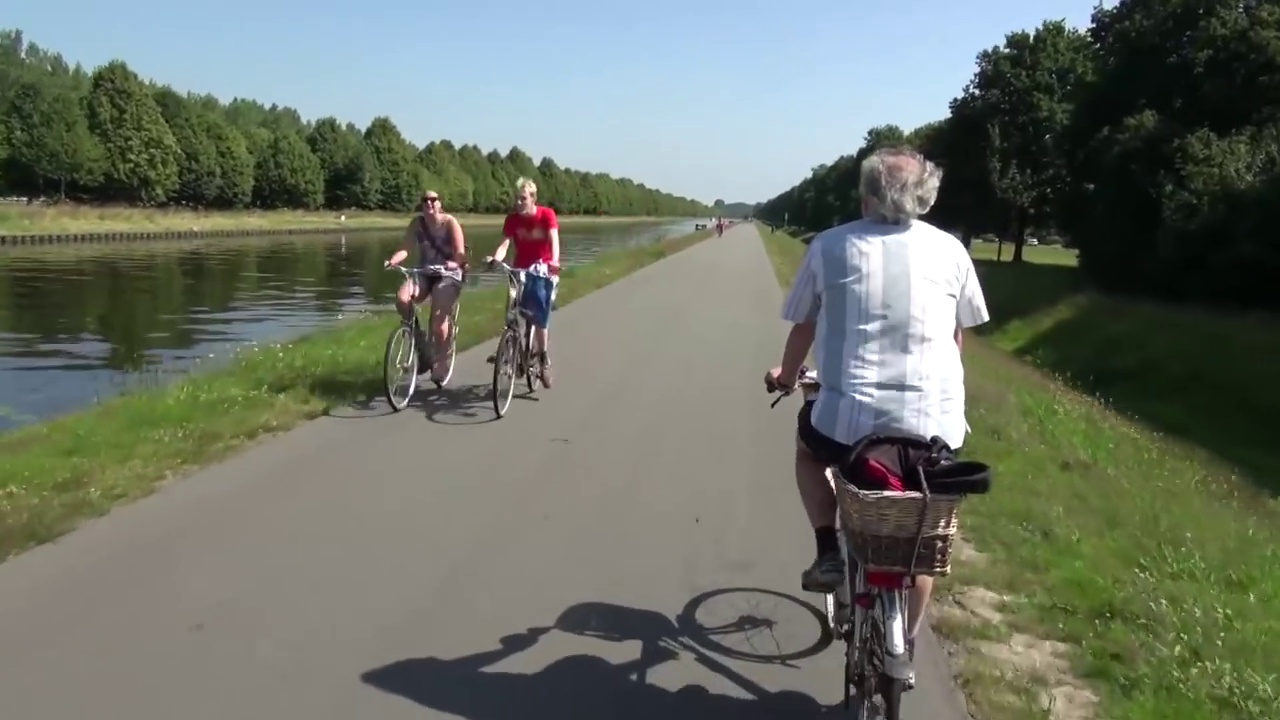cyclist_back: (764, 137, 987, 714)
cyclist_front: (488, 167, 560, 426), (384, 186, 464, 414)
